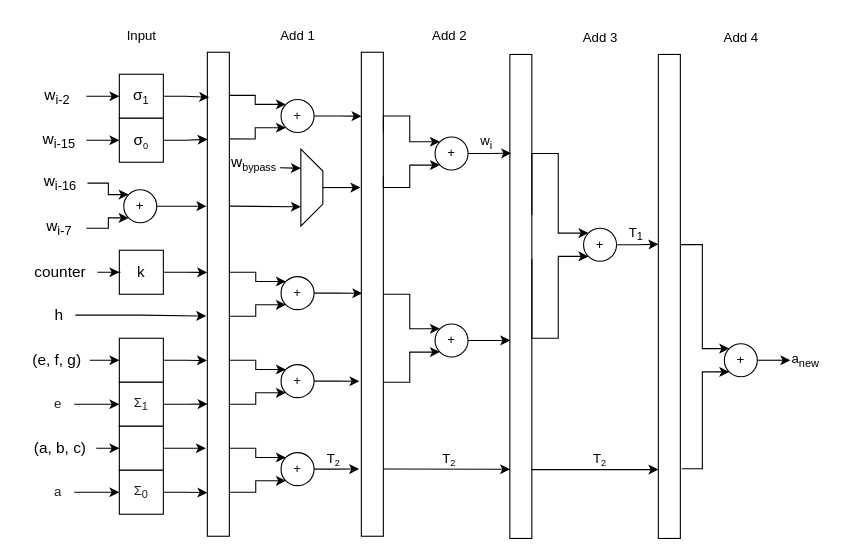
This 857x558 diagram has some shape labels left out. Here are the shapes that lost their labels. From the top down, the box of each, then its label:
(118, 337, 163, 382): ch
(118, 425, 163, 470): maj
